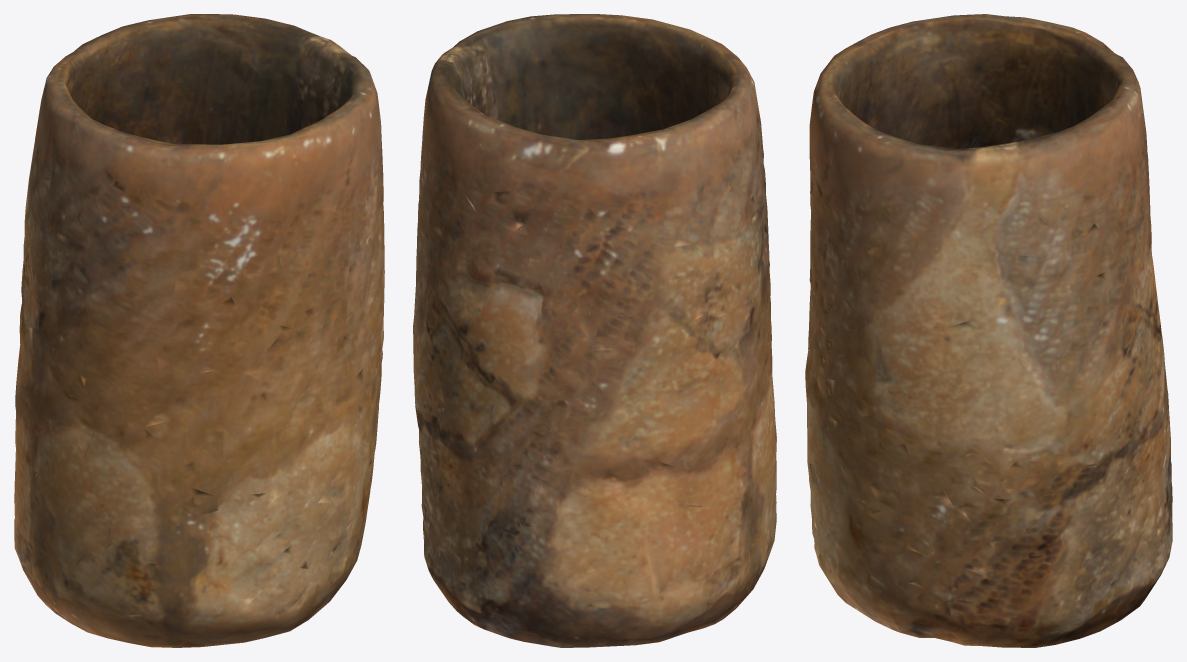
3 views of the same model, side by side, from view 1: azimuth 30°, elevation 25°; view 2: azimuth 150°, elevation 25°; view 3: azimuth 270°, elevation 25° (orthographic).
Visible parts, largest first — view 1: NM0080.low; view 2: NM0080.low; view 3: NM0080.low.
Part boxes in pixels (left/top/right/bottom): NM0080.low: left=14, top=14, right=384, bottom=647; NM0080.low: left=413, top=14, right=776, bottom=647; NM0080.low: left=805, top=14, right=1172, bottom=647.
Size of the model in its own units: 84.83 by 130 by 83.75.
1 material, 1 textured.
